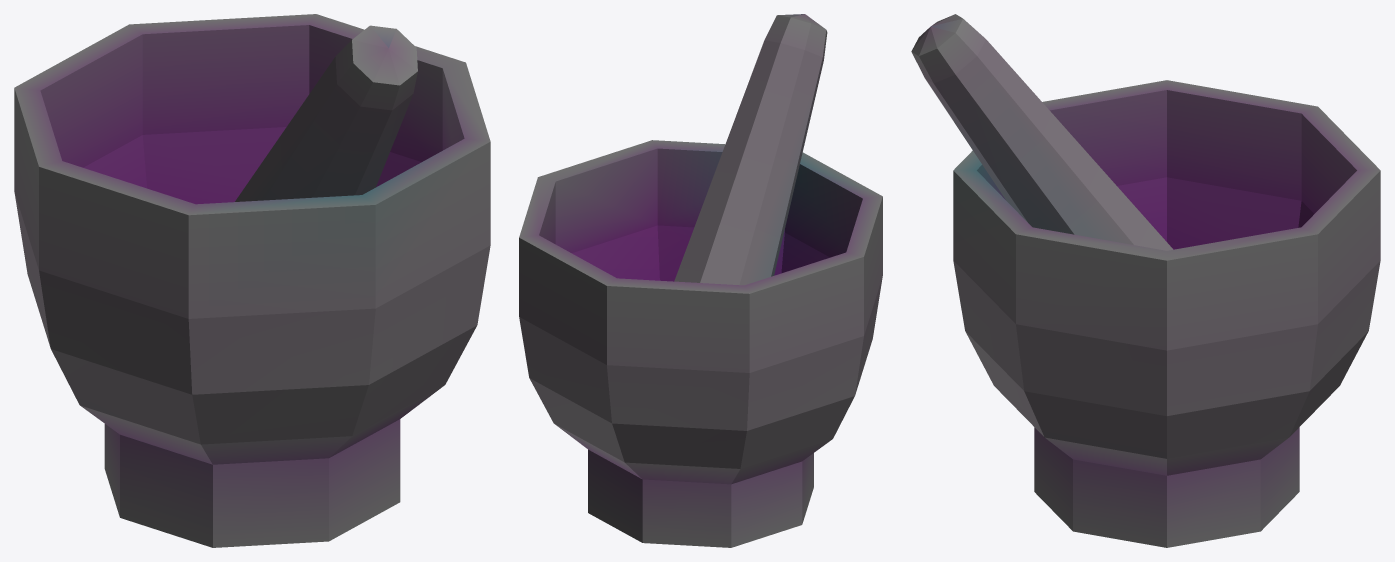
3 views of the same model, side by side, from view 1: azimuth 30°, elevation 25°; view 2: azimuth 150°, elevation 25°; view 3: azimuth 270°, elevation 25° (orthographic). The views are drawn at different scales.
Parts seen in each view (by area): view 1: body, pestle; view 2: body, pestle; view 3: body, pestle.
Part boxes in pixels (<box>): body: <box>14,14,490,547</box>; pestle: <box>235,25,417,201</box>; body: <box>519,140,882,547</box>; pestle: <box>674,14,827,285</box>; body: <box>953,80,1380,547</box>; pestle: <box>911,14,1172,250</box>.
Bounding box in the file's own units: 0.1482 × 0.1811 × 0.1627.
